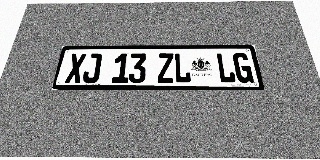1: (111, 53, 130, 83)
3: (128, 53, 146, 83)
G: (232, 53, 254, 83)
J: (82, 53, 102, 83)
L: (216, 53, 236, 83), (174, 53, 191, 83)
X: (65, 54, 86, 83)
Z: (157, 53, 174, 83)
